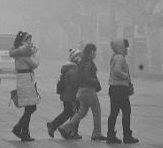person: (58, 42, 109, 141), (45, 46, 84, 140), (106, 37, 140, 143), (10, 31, 41, 142)
